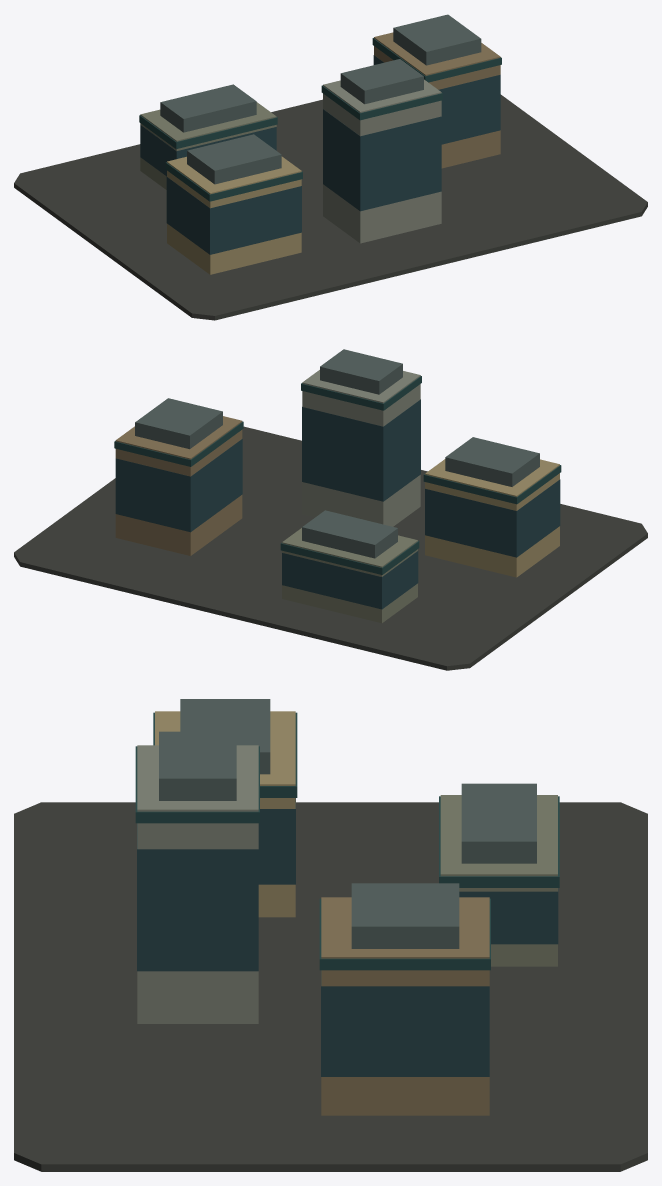
The model's file is urban.glb.
3 views of the same model, one above another, from view 1: azimuth 30°, elevation 25°; view 2: azimuth 150°, elevation 25°; view 3: azimuth 270°, elevation 25° (orthographic). The views are drawn at different scales.
Visible parts, largest first — view 1: urban; view 2: urban; view 3: urban.
Boxes of the visible parts, x1,y1,x2,y2 form: urban: [14, 14, 647, 320]; urban: [14, 349, 647, 670]; urban: [14, 699, 647, 1171].
Size of the model in its own units: 219 by 68.72 by 162.
